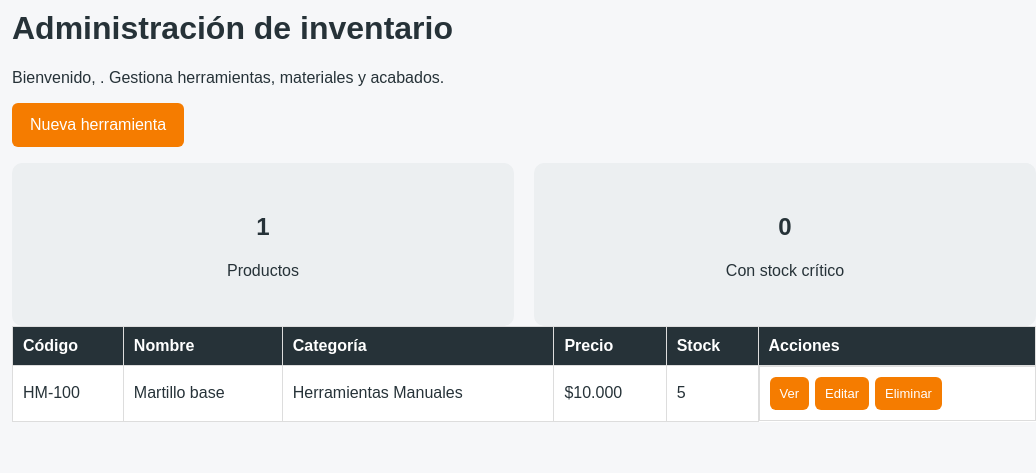
it: AdminPage eliminación de productos › mantiene la fila y muestra el error cuando la eliminación falla
This screenshot has width=1036, height=473.
expect the text "Martillo base" is shown: met, box [123,365,282,421]
Step 1. Click the button "Eliminar" → (908, 394), box [875,377,942,410]
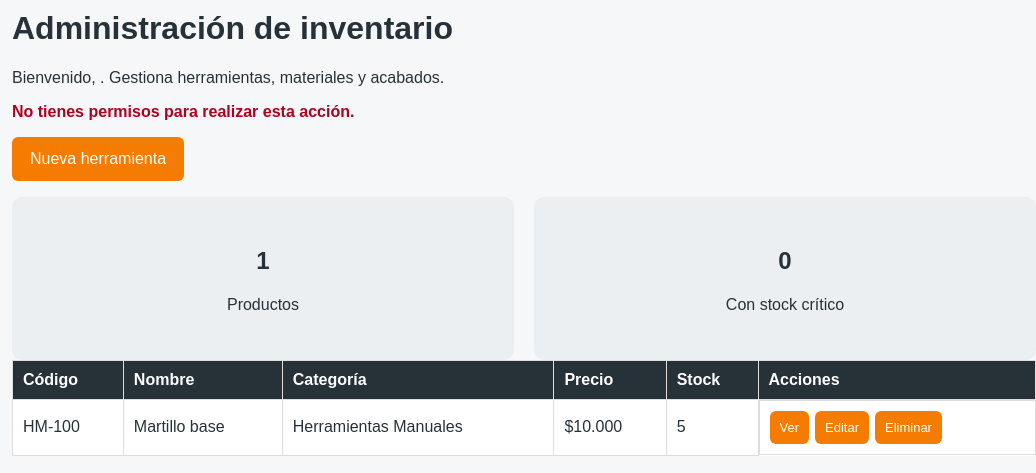
expect the text "Martillo base" is shown: met, box [123,399,282,455]
expect the text "No tienes permisos para realizar esta acción." is shown: met, box [12,103,354,120]
